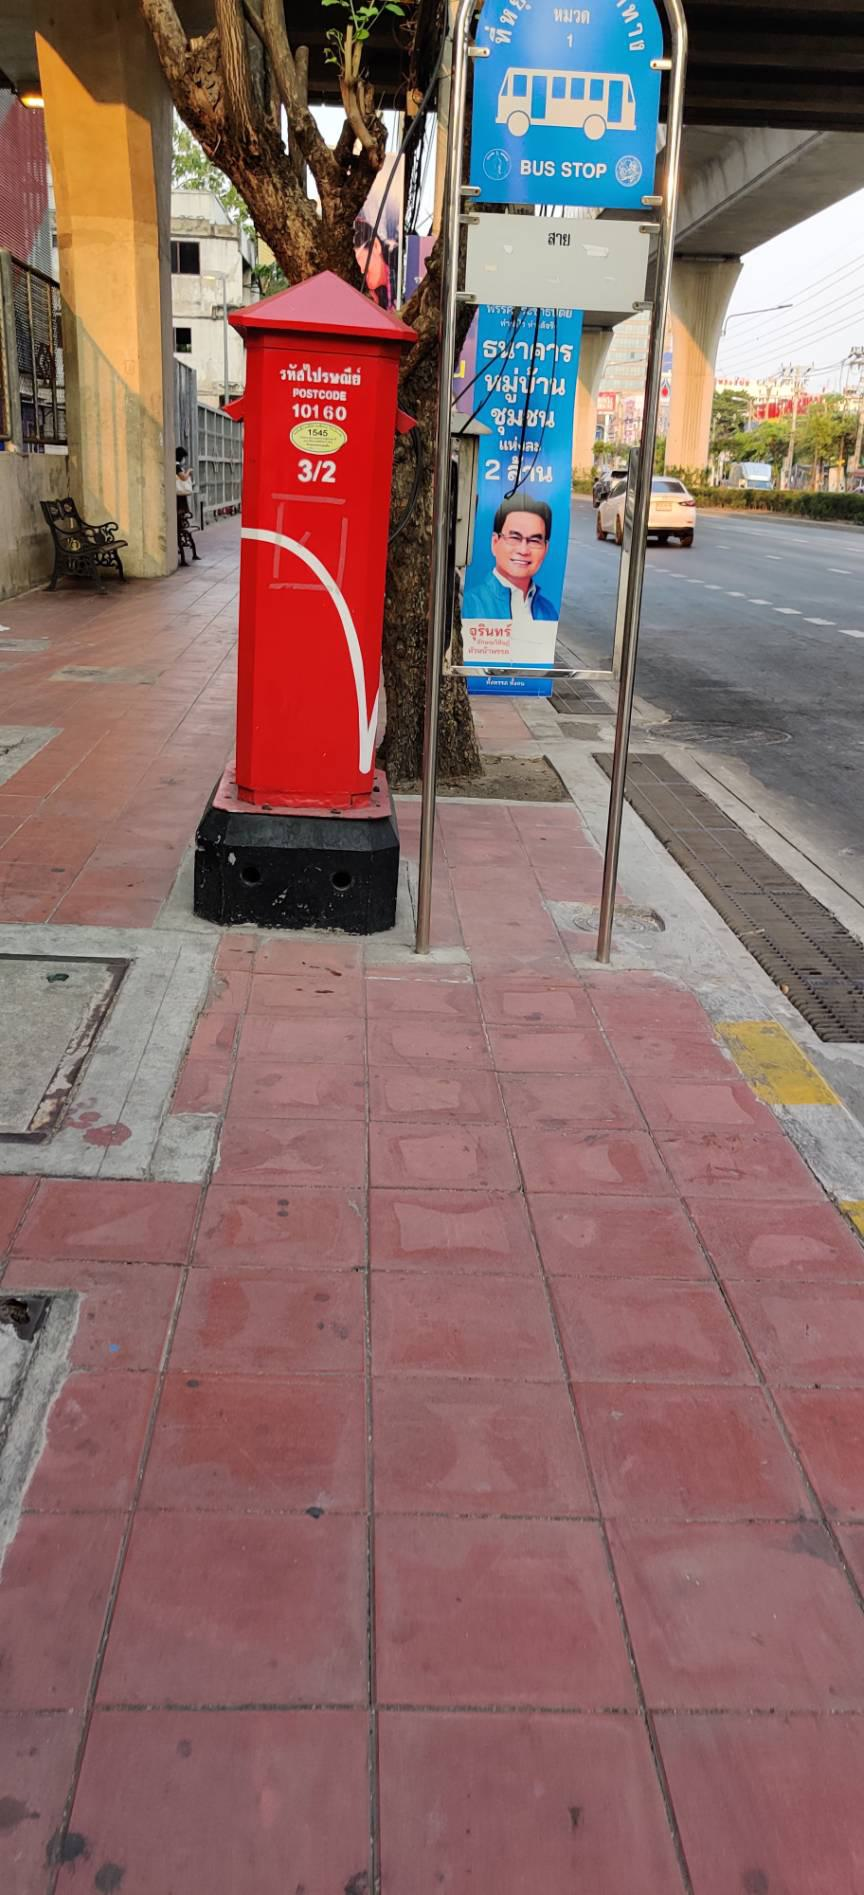Banner: (429, 302, 586, 691)
